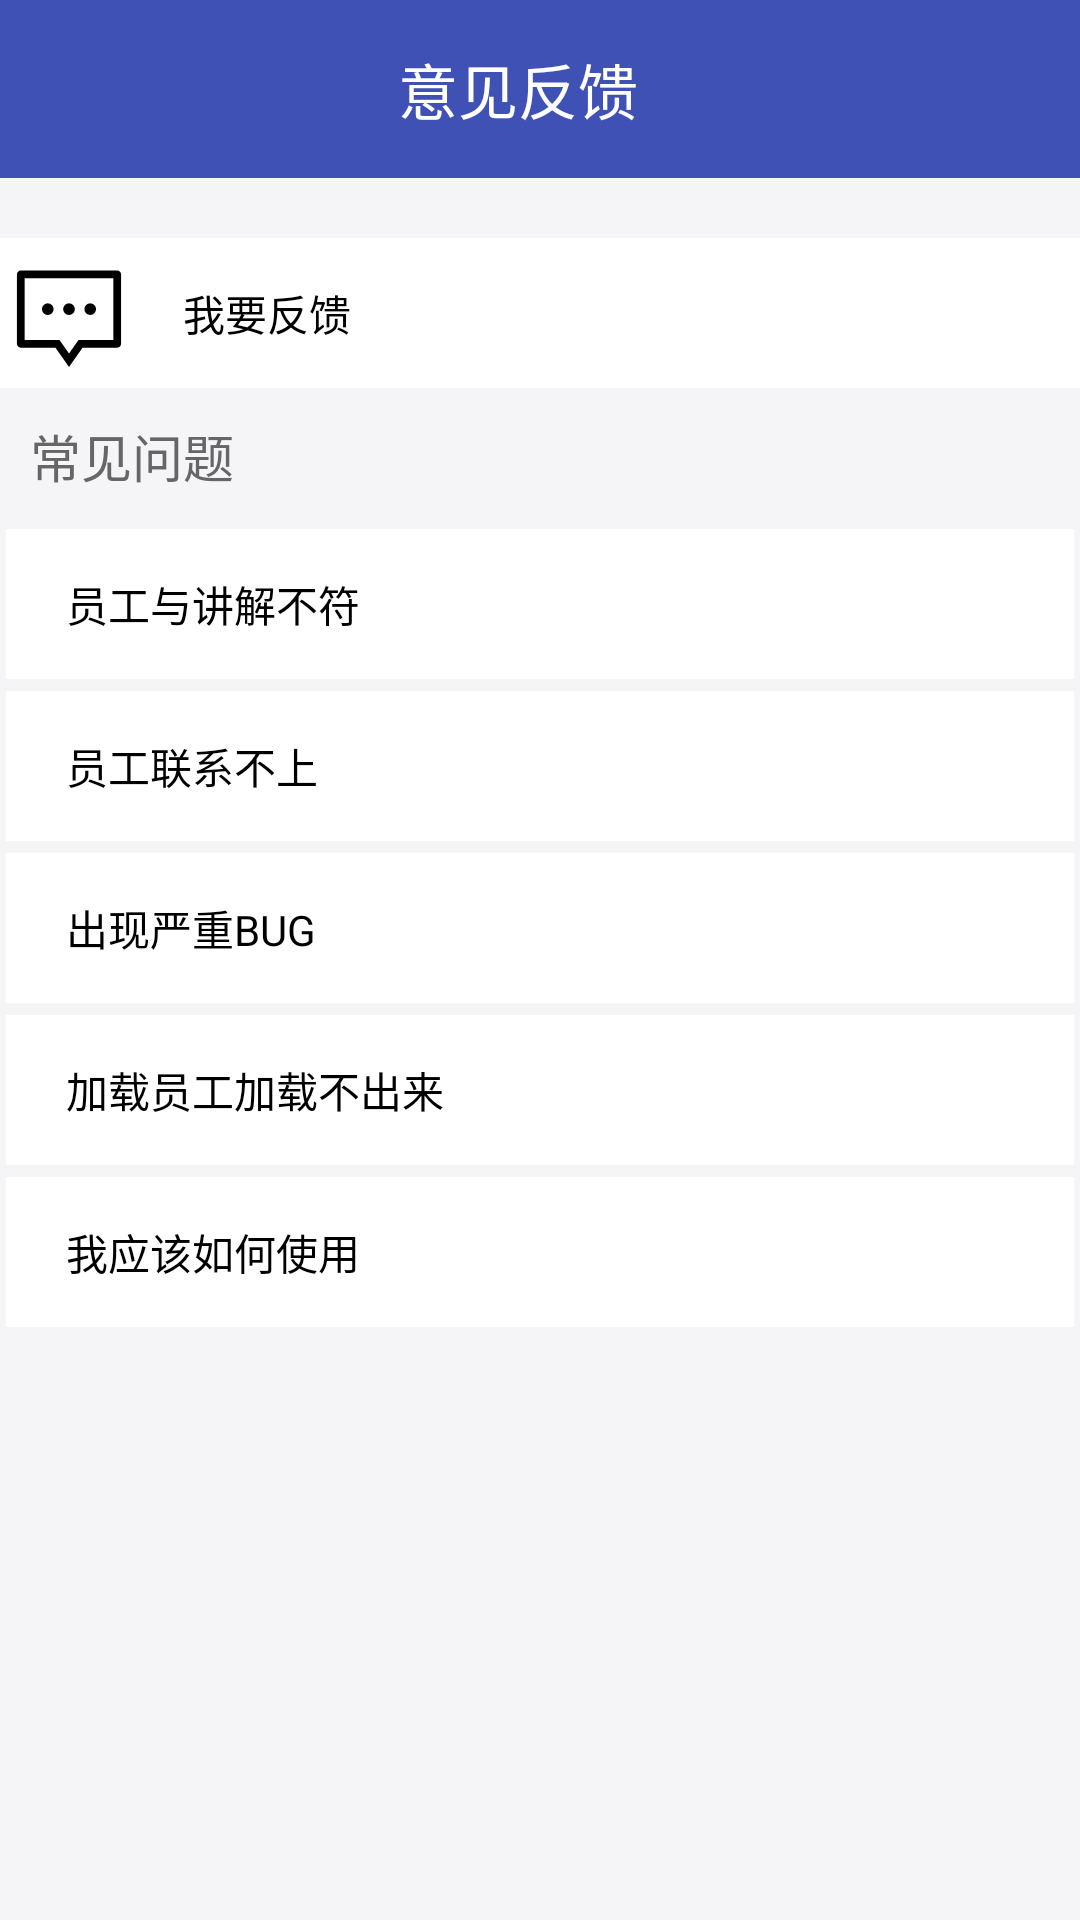

Where icons sit on this 1080*1920 app screen, as [left=x1, top=y1, right=x2, bottom=y2]:
speak: [left=17, top=270, right=121, bottom=367]
